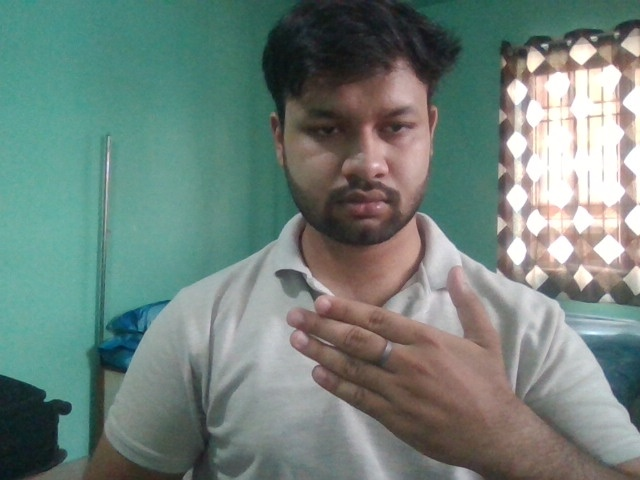Please: (284, 261, 514, 471)
